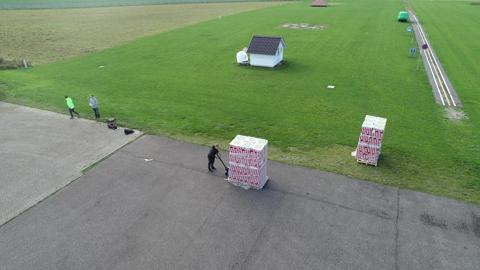RockwoolPallet: (229, 134, 269, 188)
